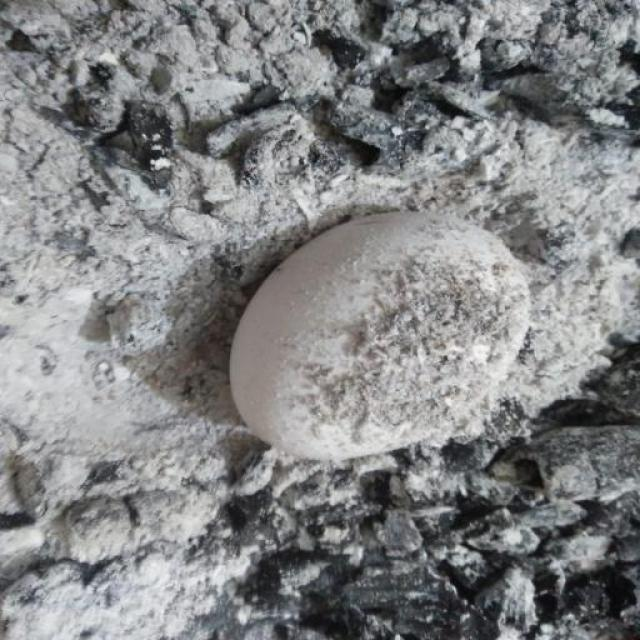telur: (223, 208, 525, 460)
